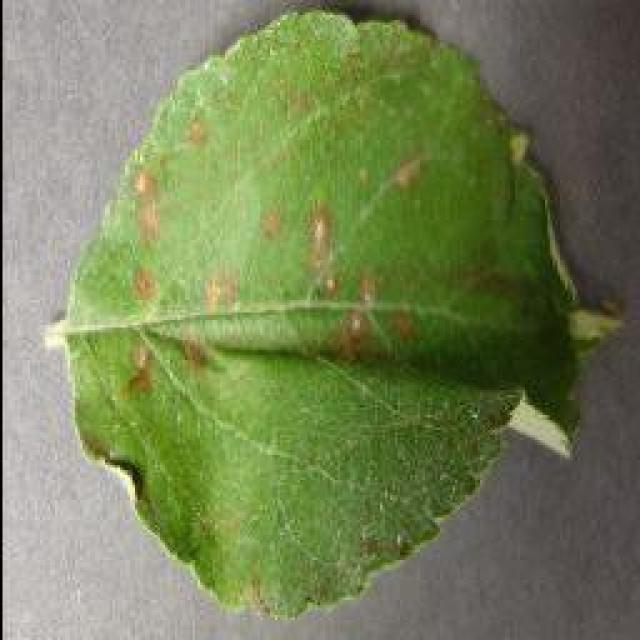apple cedar apple rust: (45, 2, 617, 620)
